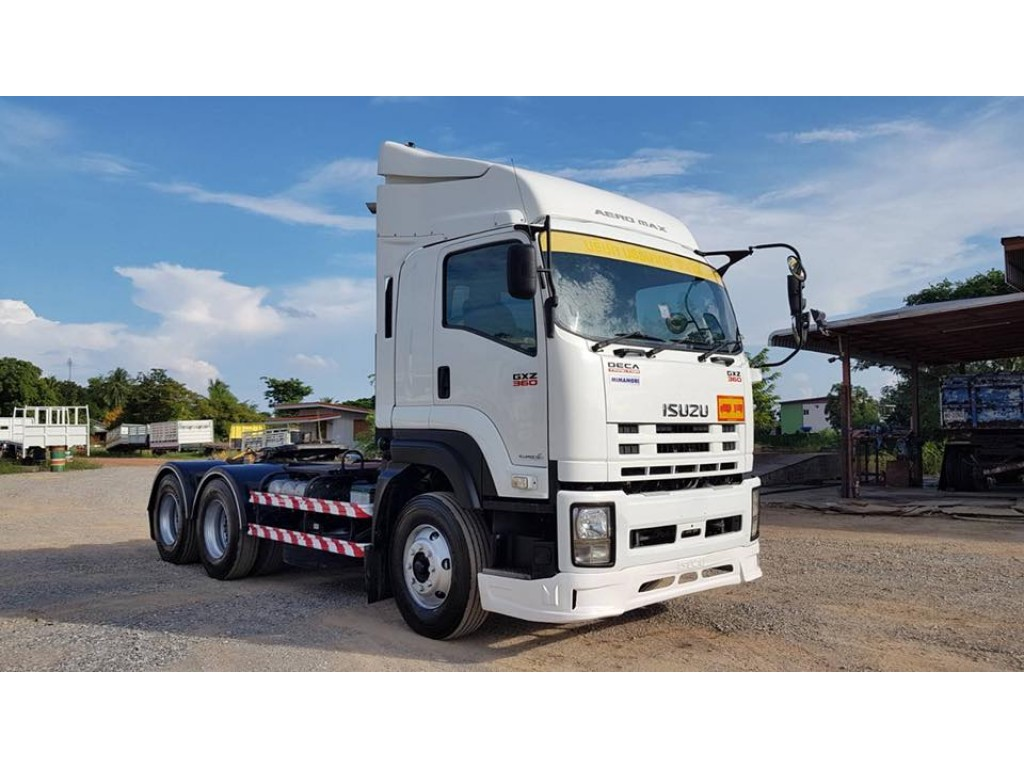truck: (142, 140, 769, 643)
